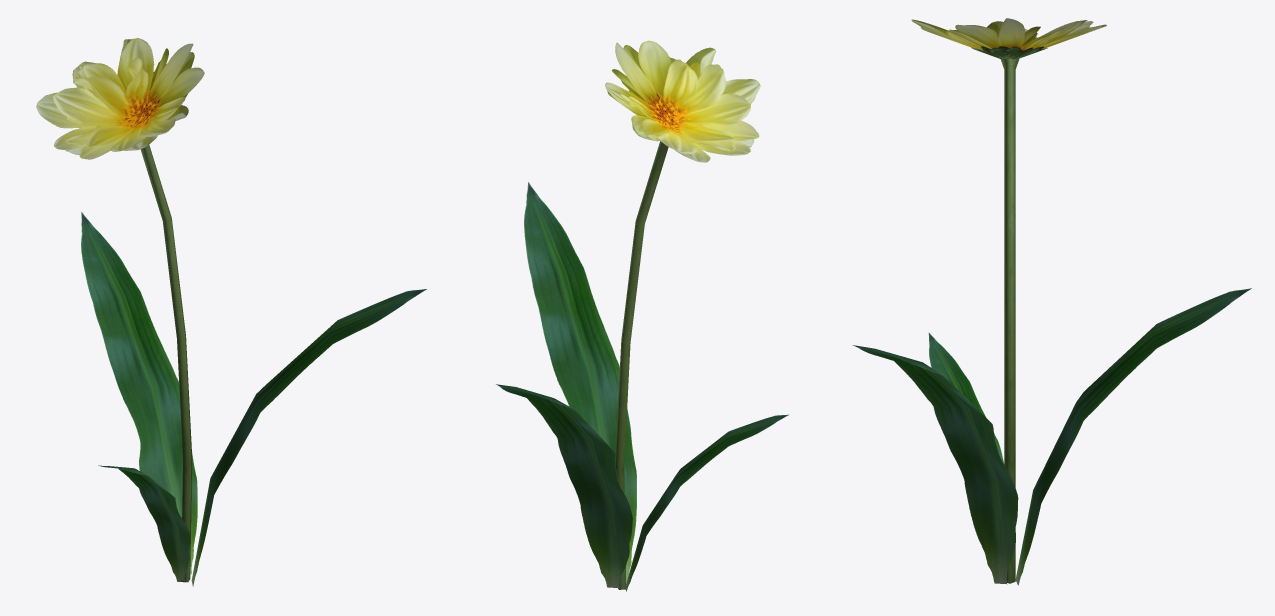
Rendered from Flower_02.FBX.
3 renders of one model, left to right at view 1: azimuth 30°, elevation 25°; view 2: azimuth 150°, elevation 25°; view 3: azimuth 270°, elevation 25°, orthographic. The views are drawn at different scales.
Visible parts, largest first — view 1: Flower_02; view 2: Flower_02; view 3: Flower_02.
Boxes of the visible parts, x1,y1,x2,y2 form: Flower_02: (36, 38, 426, 586); Flower_02: (496, 40, 788, 591); Flower_02: (852, 18, 1251, 585).
Size of the model in its own units: 0.7315 by 1.12 by 0.7682.
